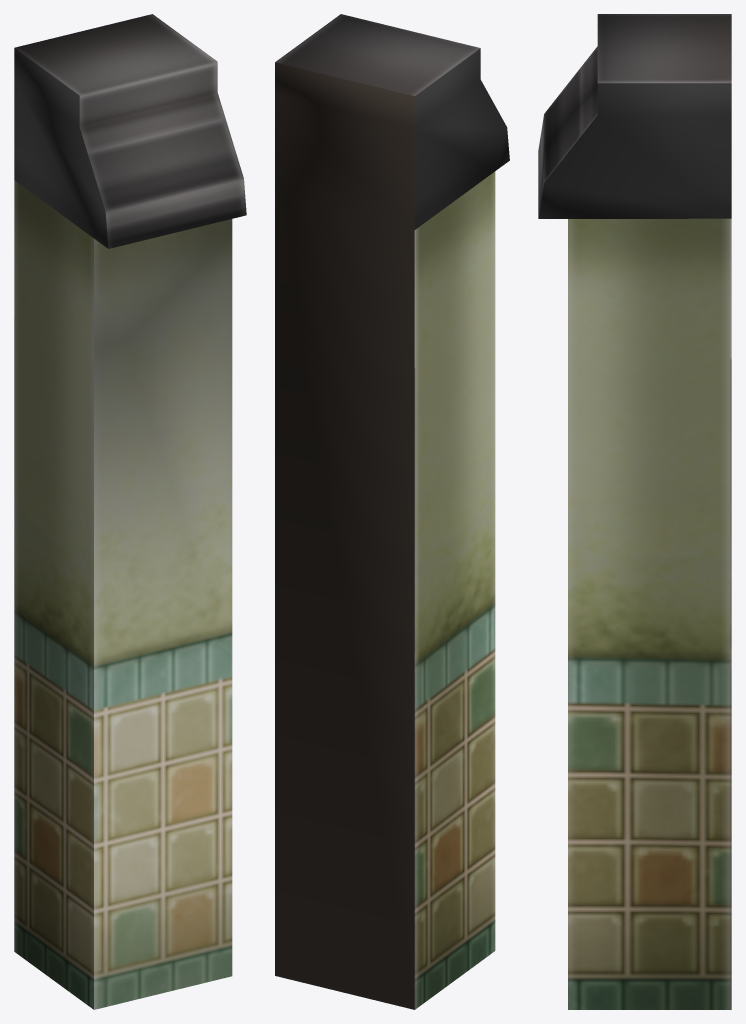
The model's file is a_SWIwashWall04.glb.
The picture shows the model from 3 angles, left to right: view 1: azimuth 30°, elevation 25°; view 2: azimuth 150°, elevation 25°; view 3: azimuth 270°, elevation 25°; orthographic projection. The views are drawn at different scales.
Visible parts, largest first — view 1: a_SWIwashWall04; view 2: a_SWIwashWall04; view 3: a_SWIwashWall04.
Part boxes in pixels (<box>): a_SWIwashWall04: <box>14,14,246,1009</box>; a_SWIwashWall04: <box>275,14,509,1009</box>; a_SWIwashWall04: <box>538,14,731,1009</box>.
Size of the model in its own units: 0.5 by 3.12 by 0.5895.
Materials: 1 (1 with a texture image).
